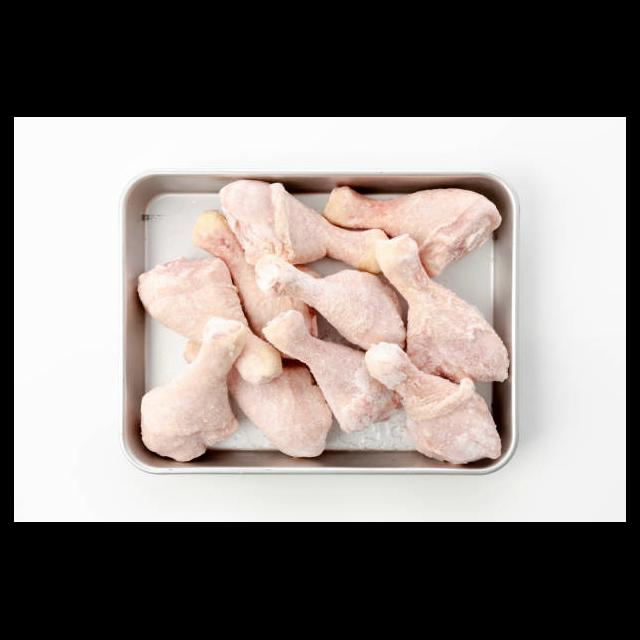chicken: (193, 210, 329, 354), (376, 236, 510, 382), (140, 256, 284, 386), (184, 340, 335, 462), (264, 311, 402, 434), (366, 342, 501, 466), (139, 318, 247, 464), (326, 188, 501, 278), (217, 182, 388, 274)
